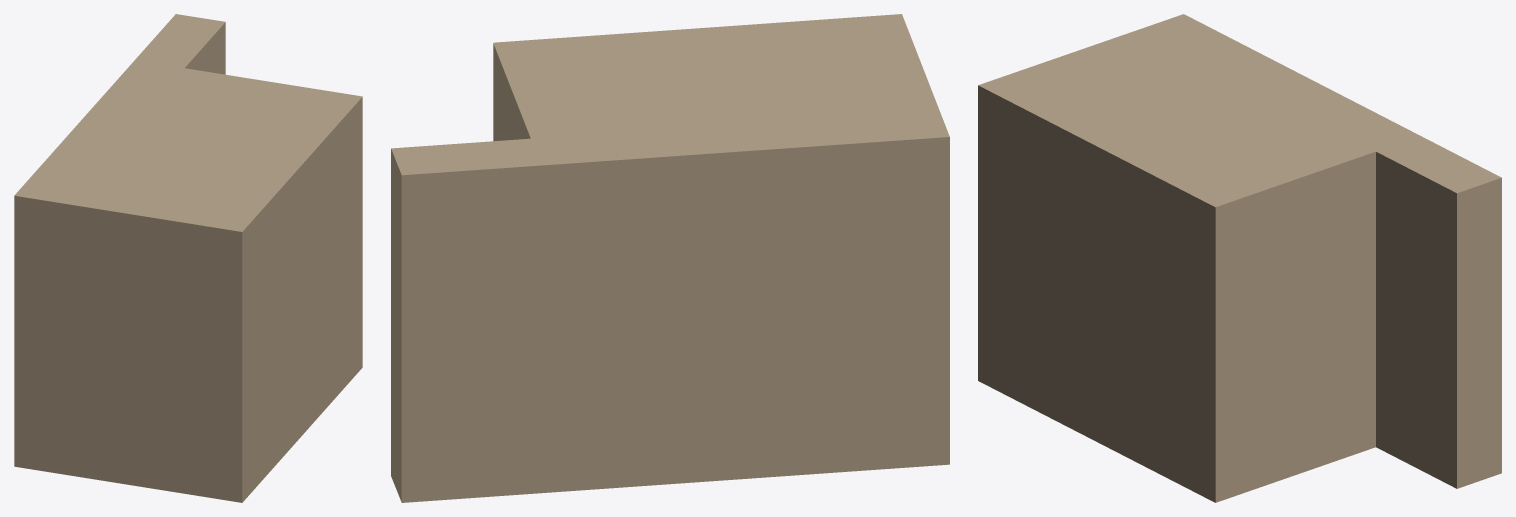
The model's file is bld_101979758.dae.
The picture shows the model from 3 angles, left to right: view 1: azimuth 30°, elevation 25°; view 2: azimuth 150°, elevation 25°; view 3: azimuth 270°, elevation 25°; orthographic projection. The views are drawn at different scales.
Visible parts, largest first — view 1: bld_101979758; view 2: bld_101979758; view 3: bld_101979758.
Part boxes in pixels (<box>): bld_101979758: <box>14,14,362,502</box>; bld_101979758: <box>391,14,949,502</box>; bld_101979758: <box>978,14,1501,502</box>.
Bounding box in the file's own units: 11.22 × 12.85 × 8.
